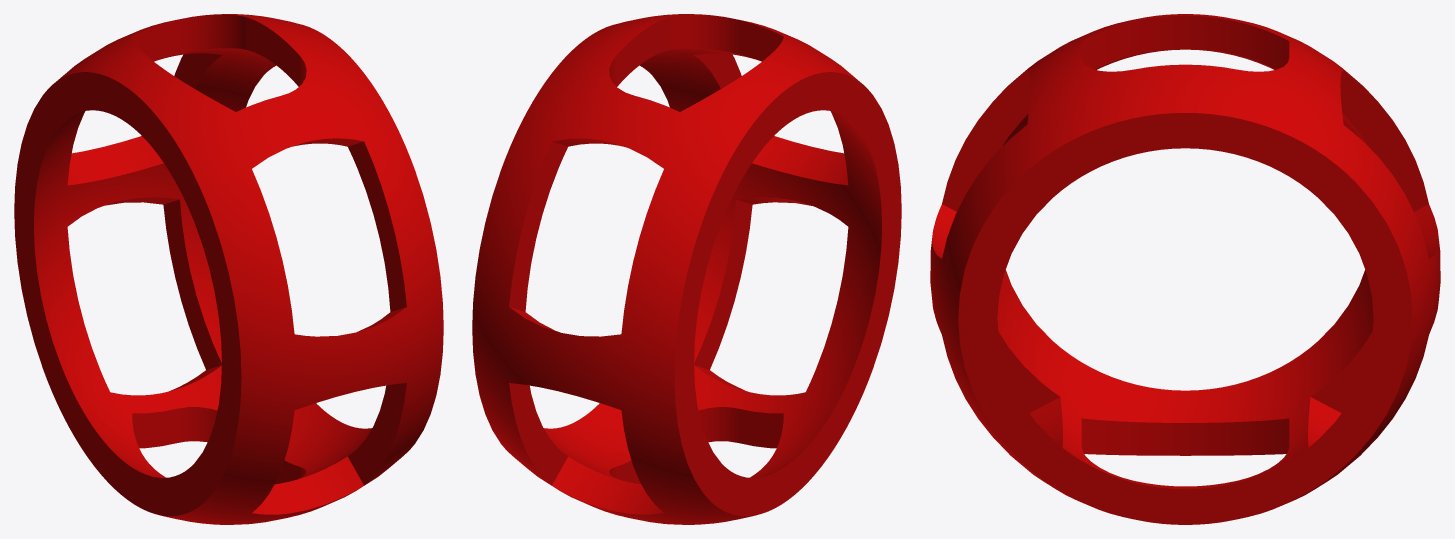
3 renders of one model, left to right at view 1: azimuth 30°, elevation 25°; view 2: azimuth 150°, elevation 25°; view 3: azimuth 270°, elevation 25°, orthographic.
Visible parts, largest first — view 1: Part 069; view 2: Part 069; view 3: Part 069.
Boxes of the visible parts, <box> form: Part 069: <box>14,14,443,524</box>; Part 069: <box>472,14,901,524</box>; Part 069: <box>930,14,1440,524</box>.
Size of the model in its own units: 0.1125 by 0.2411 by 0.2458.
